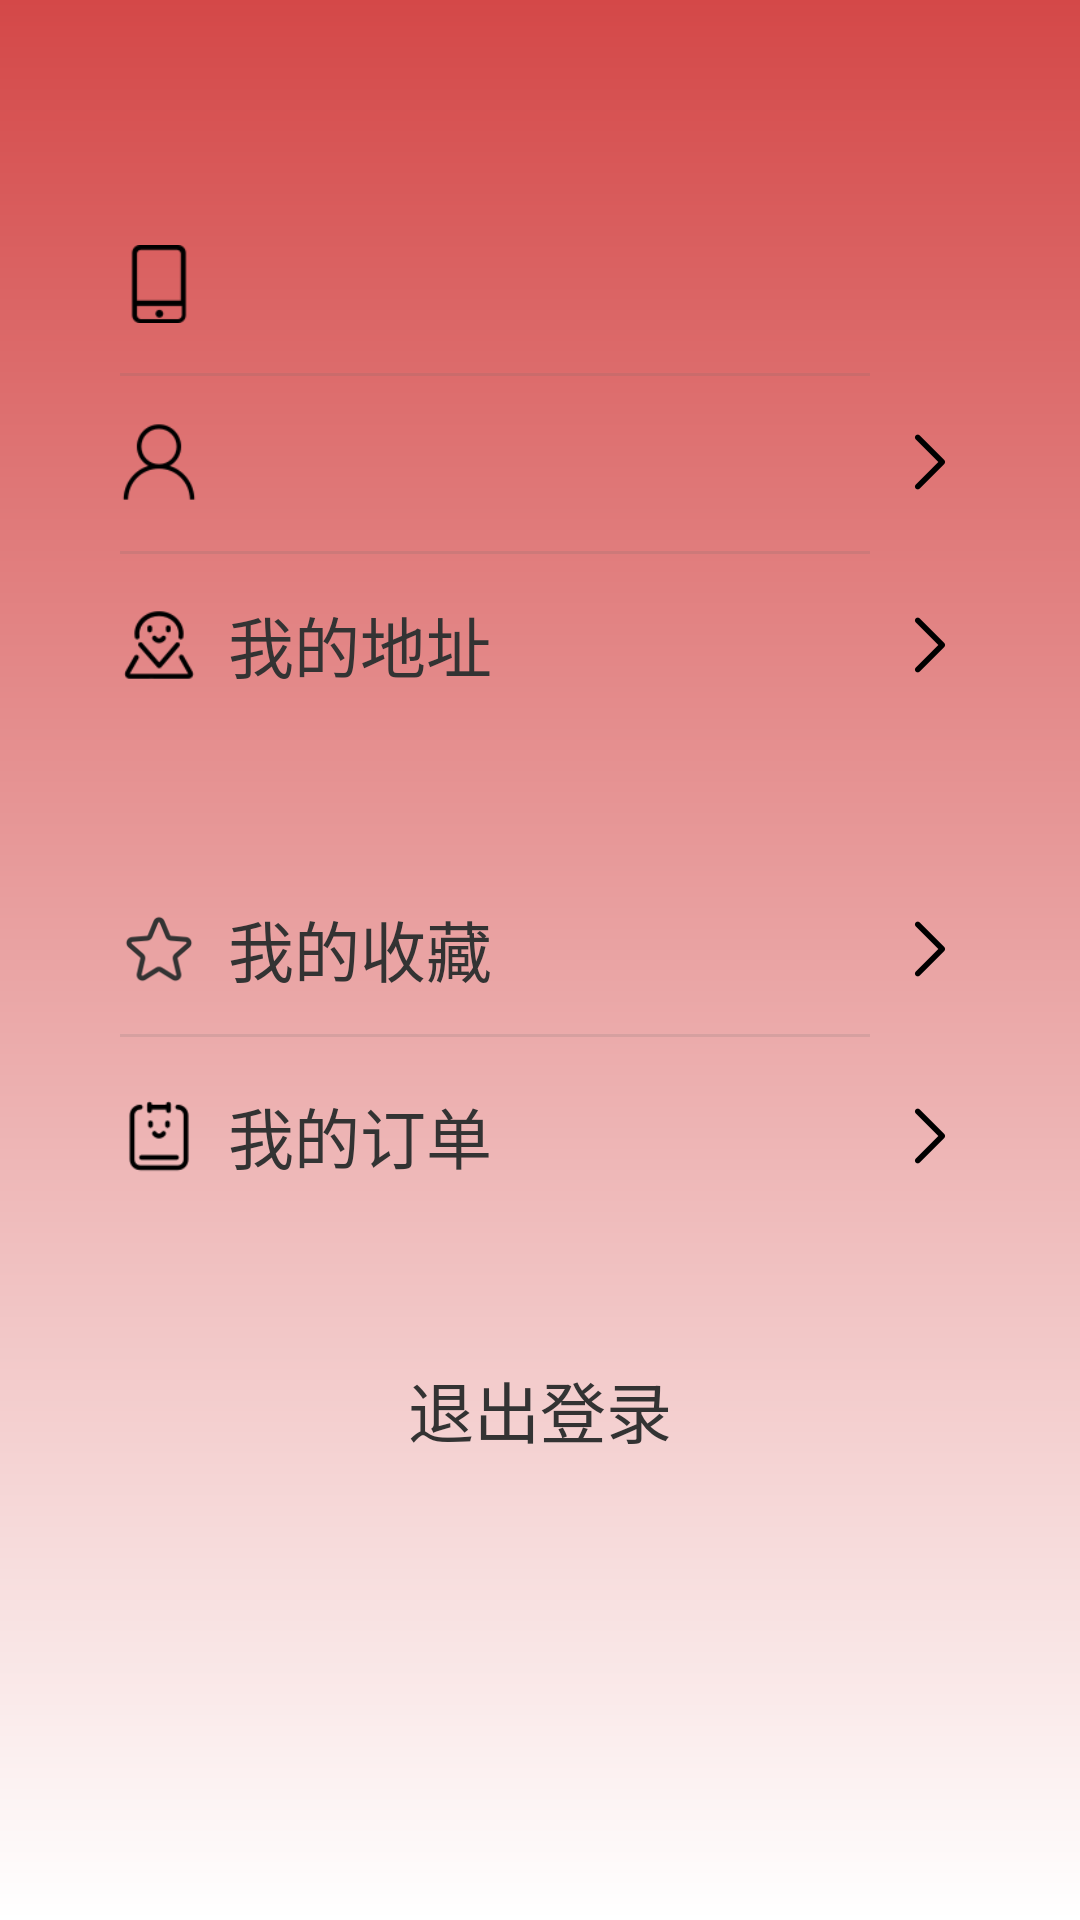

Screen size 1080px x 1920px. Icon name, then its box in pixels as detection(x1, y1, x2, y2):
address: detection(124, 611, 194, 679)
collection: detection(126, 917, 192, 981)
order: detection(129, 1101, 189, 1171)
phone: detection(131, 245, 187, 323)
right arrow: detection(915, 434, 945, 490), detection(915, 617, 945, 673), detection(915, 921, 945, 977), detection(915, 1108, 945, 1164)
